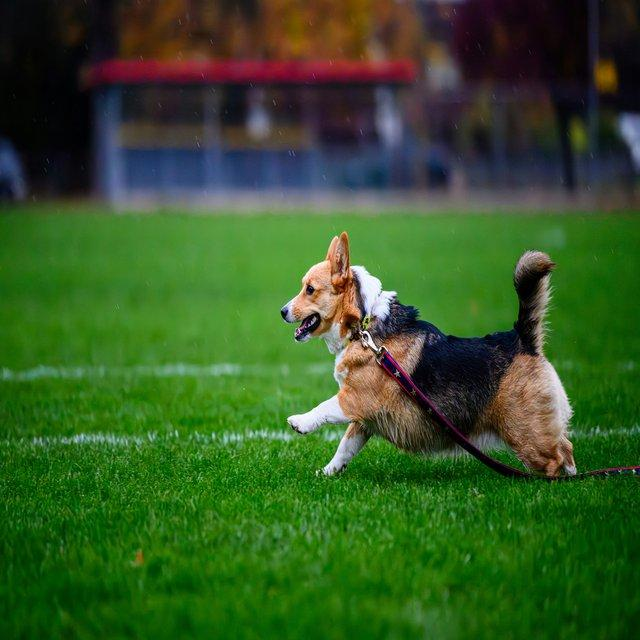corgi: (279, 230, 577, 480)
